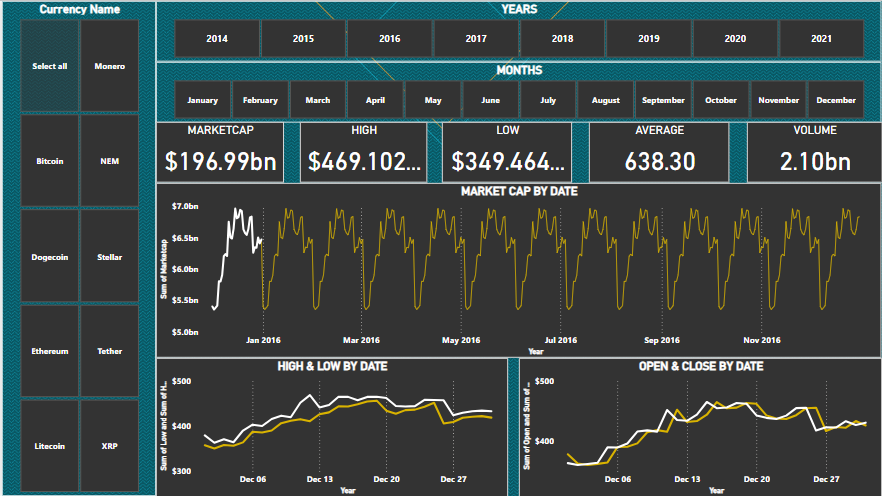

The dashboard page shown, as its layout file describes it:
{"tool":"powerbi","page":{"name":"CRYPTO ANALYSIS","canvas":[1280,720],"ordinal":0},"visuals":[{"type":"slicer","title":"Currency Name","fields":{"Values":["crypto.Name"]},"box":[0,0,224.3,720],"z":0},{"type":"slicer","title":"YEARS","fields":{"Values":["crypto.Date.Variation.Date Hierarchy.Year"]},"box":[223.7,0,1055.2,87.8],"z":1000},{"type":"slicer","title":"MONTHS","fields":{"Values":["crypto.Date.Variation.Date Hierarchy.Month"]},"box":[224.3,88,1055.3,88],"z":2000},{"type":"card","title":"MARKETCAP","fields":{"Values":["Sum(crypto.Marketcap)"]},"box":[224.3,176.1,185.7,88],"z":3000},{"type":"card","title":"HIGH","fields":{"Values":["Max(crypto.High)"]},"box":[434.2,176.1,184.5,88],"z":4000},{"type":"card","title":"LOW","fields":{"Values":["Min(crypto.Low)"]},"box":[640.4,176.1,189.3,88],"z":5000},{"type":"card","title":"AVERAGE","fields":{"Values":["Avg(crypto.Average)"]},"box":[853.9,176.1,203.8,88],"z":6000},{"type":"card","title":"VOLUME","fields":{"Values":["Sum(crypto.Volume)"]},"box":[1083,176.1,196.6,88],"z":7000},{"type":"lineChart","title":"MARKET CAP BY DATE","fields":{"Y":["Sum(crypto.Marketcap)"],"Category":["crypto.Date.Variation.Date Hierarchy.Year","crypto.Date.Variation.Date Hierarchy.Quarter","crypto.Date.Variation.Date Hierarchy.Month","crypto.Date.Variation.Date Hierarchy.Day"]},"box":[224.3,264.1,1055.3,254.5],"z":8000},{"type":"lineChart","title":"HIGH & LOW BY DATE","fields":{"Y":["Sum(crypto.Low)","Sum(crypto.High)"],"Category":["crypto.Date.Variation.Date Hierarchy.Year","crypto.Date.Variation.Date Hierarchy.Quarter","crypto.Date.Variation.Date Hierarchy.Month","crypto.Date.Variation.Date Hierarchy.Day"]},"box":[223.7,518.7,511.8,201.7],"z":9000},{"type":"lineChart","title":"OPEN & CLOSE BY DATE","fields":{"Category":["crypto.Date.Variation.Date Hierarchy.Year","crypto.Date.Variation.Date Hierarchy.Quarter","crypto.Date.Variation.Date Hierarchy.Month","crypto.Date.Variation.Date Hierarchy.Day"],"Y":["Sum(crypto.Open)","Sum(crypto.Close)"]},"box":[752,518.7,528.3,201.7],"z":10000}]}

Visuals, with their boxes in screenshot pixels (x1, y1, x2, y2), scaled from the page's 1280x720 canvas onto the 882x496 screenshot:
"Currency Name" slicer: <box>0,0,155,495</box>
"YEARS" slicer: <box>154,0,881,60</box>
"MONTHS" slicer: <box>155,61,881,121</box>
"MARKETCAP" card: <box>155,121,283,182</box>
"HIGH" card: <box>299,121,426,182</box>
"LOW" card: <box>441,121,572,182</box>
"AVERAGE" card: <box>588,121,729,182</box>
"VOLUME" card: <box>746,121,881,182</box>
"MARKET CAP BY DATE" lineChart: <box>155,182,881,357</box>
"HIGH & LOW BY DATE" lineChart: <box>154,357,507,495</box>
"OPEN & CLOSE BY DATE" lineChart: <box>518,357,881,495</box>
